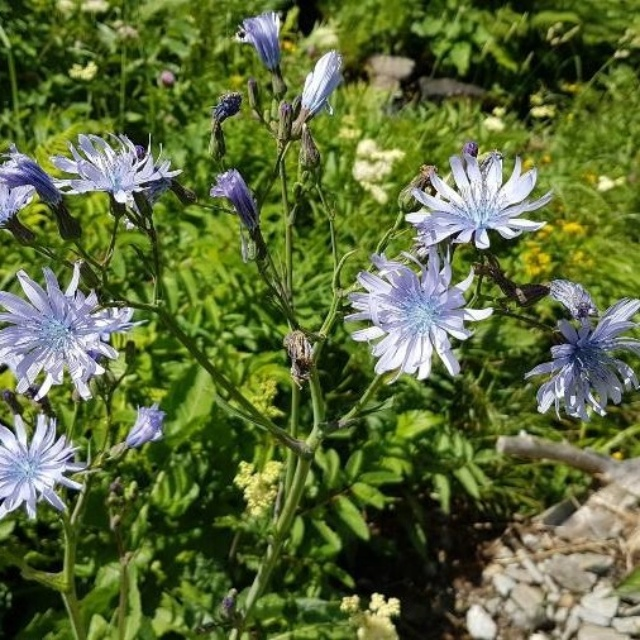obstacle: (16, 121, 261, 544), (353, 123, 624, 446)
